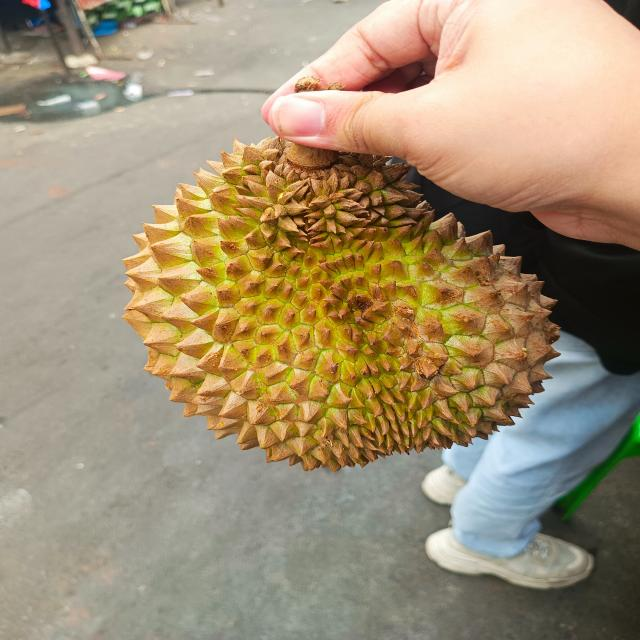mature: (123, 138, 558, 470)
